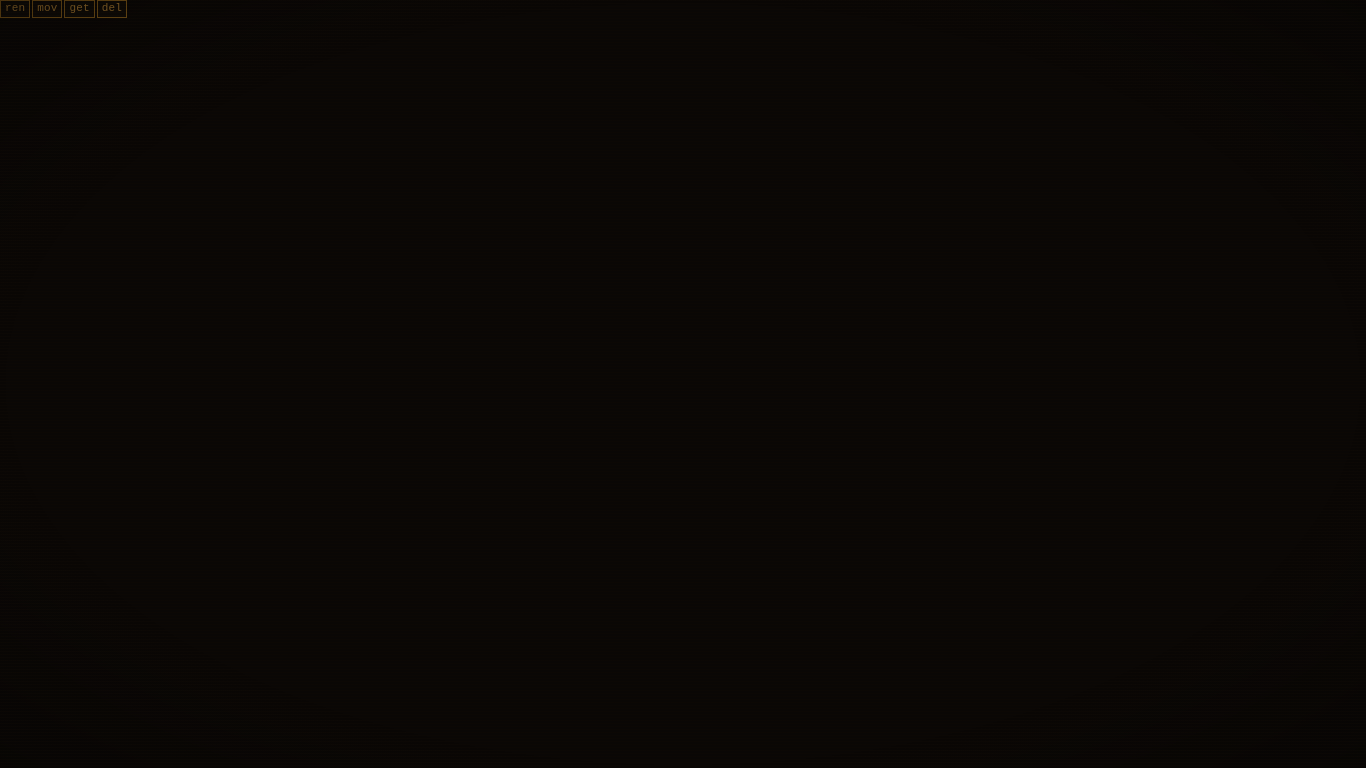
Test: FileActions › keeps the dialog open and explains a name conflict
Step 1. Click the button with aria-label "renomear topologia.png" → (15,9), box [0, 0, 30, 18]
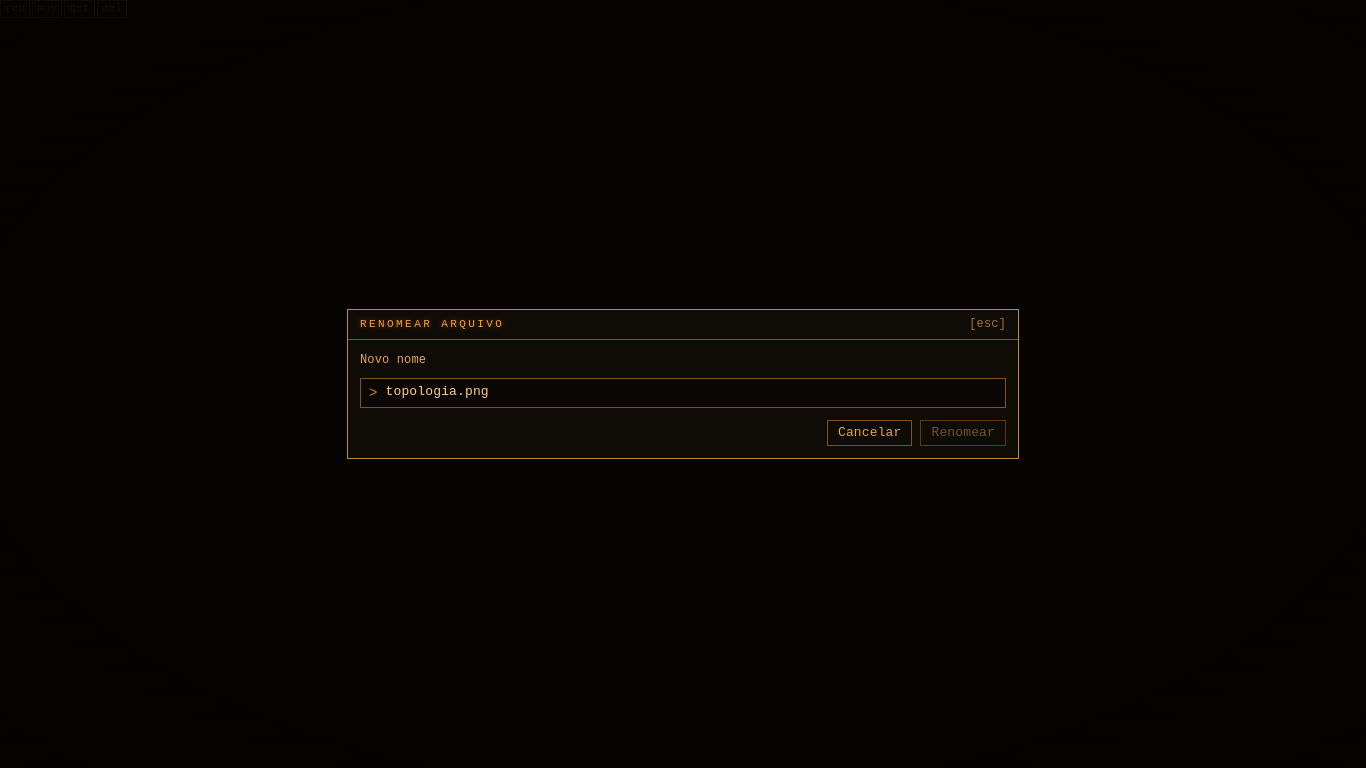
Step 2. Replace the text in the field labelled "Novo nome" with "runbook.pdf" → (691,393), box [386, 383, 997, 402]
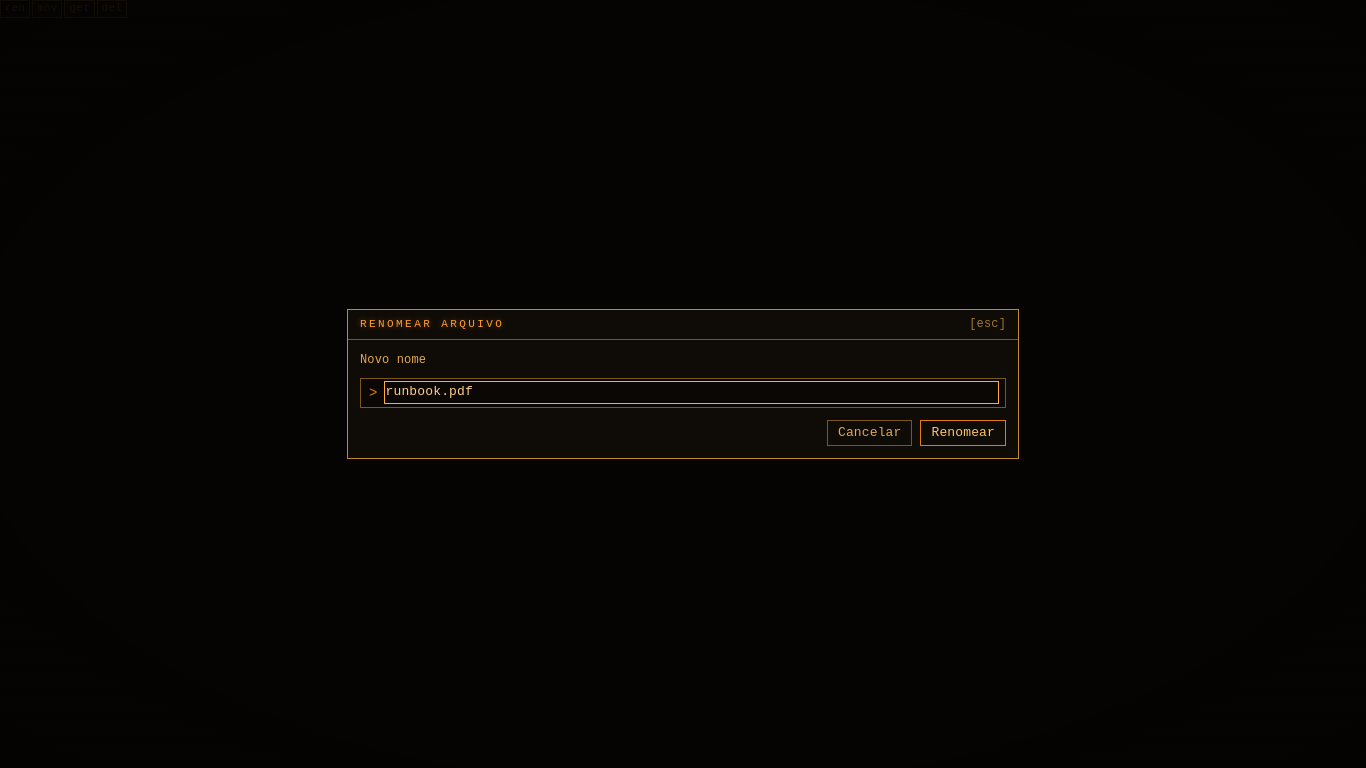
Step 3. Click the button "Renomear" → (963,433), box [920, 420, 1006, 446]
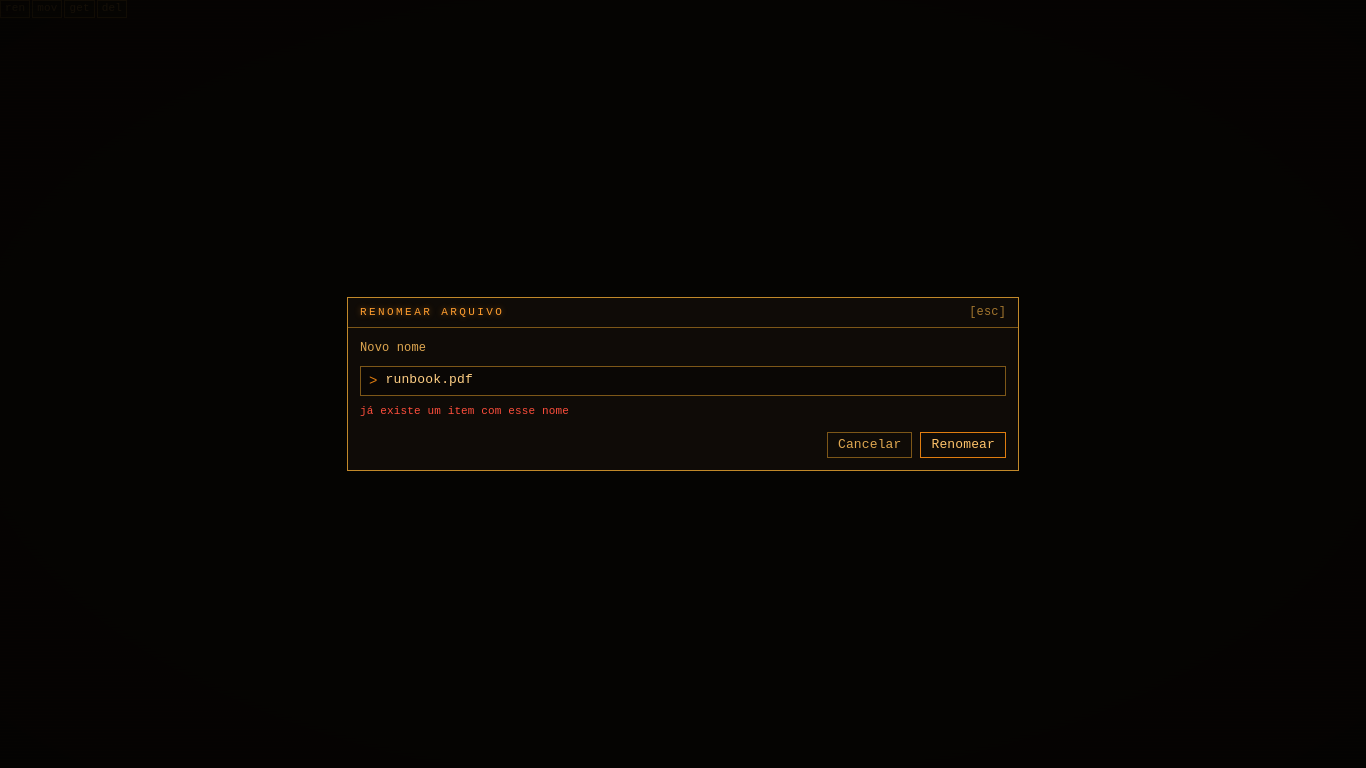
Expected: the dialog is shown, [347, 297, 1019, 471]
Expected: the text "já existe um item com esse nome" is shown, [360, 405, 569, 417]
